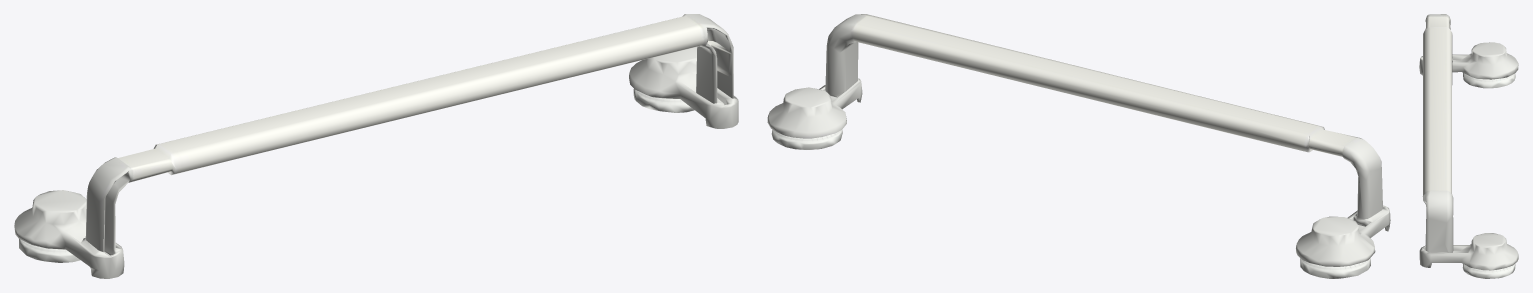
File: tisken_wieszak_z_przyssawka_40381286.glb
3 views of the same model, side by side, from view 1: azimuth 30°, elevation 25°; view 2: azimuth 150°, elevation 25°; view 3: azimuth 270°, elevation 25° (orthographic). The views are drawn at different scales.
Parts seen in each view (by area): view 1: tisken_wieszak_z_przyssawka_40381286; view 2: tisken_wieszak_z_przyssawka_40381286; view 3: tisken_wieszak_z_przyssawka_40381286.
Boxes of the visible parts, left/top/right/bottom form: tisken_wieszak_z_przyssawka_40381286: left=14, top=14, right=738, bottom=278; tisken_wieszak_z_przyssawka_40381286: left=767, top=14, right=1390, bottom=278; tisken_wieszak_z_przyssawka_40381286: left=1419, top=14, right=1518, bottom=278.
Size of the model in its own units: 0.5286 by 0.0814 by 0.103.
2 materials, 2 textured.
